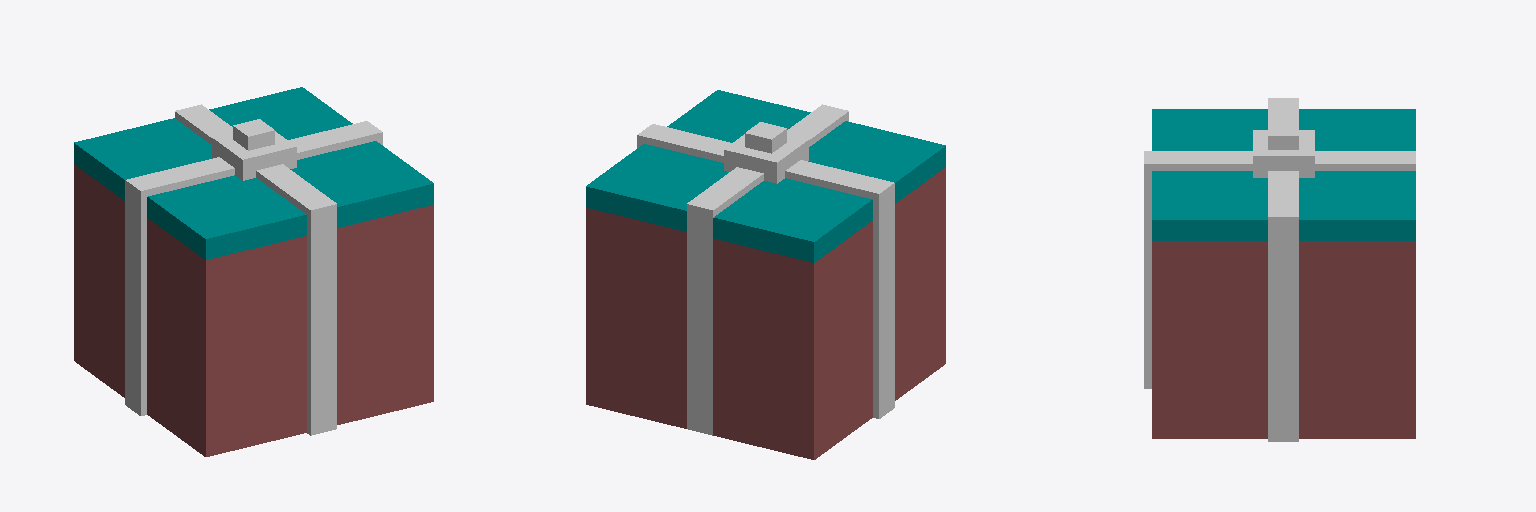
3 views of the same model, side by side, from view 1: azimuth 30°, elevation 25°; view 2: azimuth 150°, elevation 25°; view 3: azimuth 270°, elevation 25° (orthographic).
Parts seen in each view (by area): view 1: GiftBox.001; view 2: GiftBox.001; view 3: GiftBox.001.
Part boxes in pixels (x1,y1,x2,y2): GiftBox.001: (74,87,433,456); GiftBox.001: (586,90,945,459); GiftBox.001: (1144,98,1415,441).
Bounding box in the file's own units: 3.6 × 3.6 × 3.5.
1 materials, 1 textured.